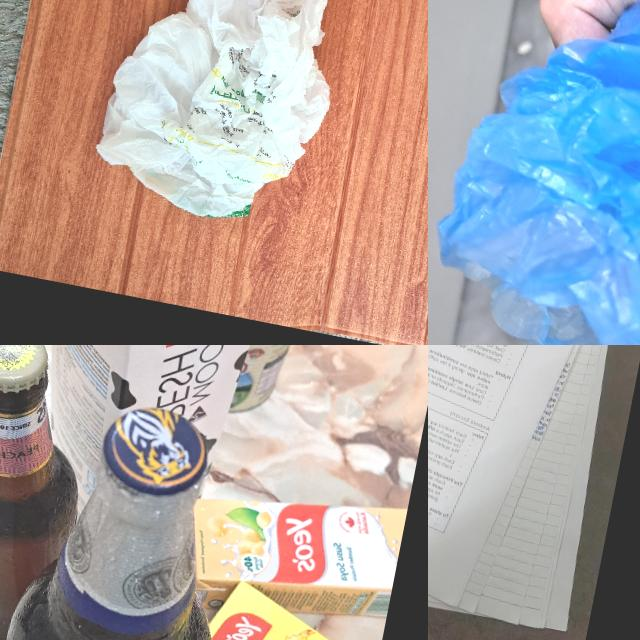caixinha: (0, 345, 286, 545), (171, 464, 408, 640), (178, 575, 388, 640)
garrafa de vidro: (0, 386, 257, 640), (0, 345, 111, 640)
lata: (213, 345, 321, 424)
papel: (428, 345, 640, 635)
sacola plástica: (428, 0, 640, 345), (84, 0, 361, 237)
